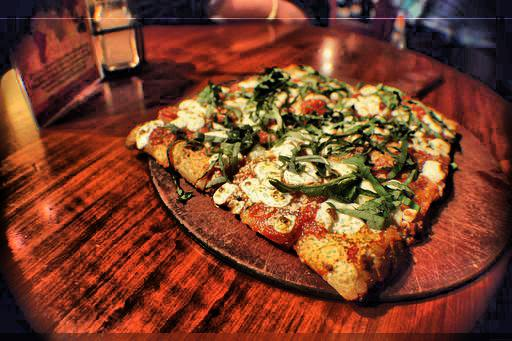pizza: (132, 65, 463, 296)
